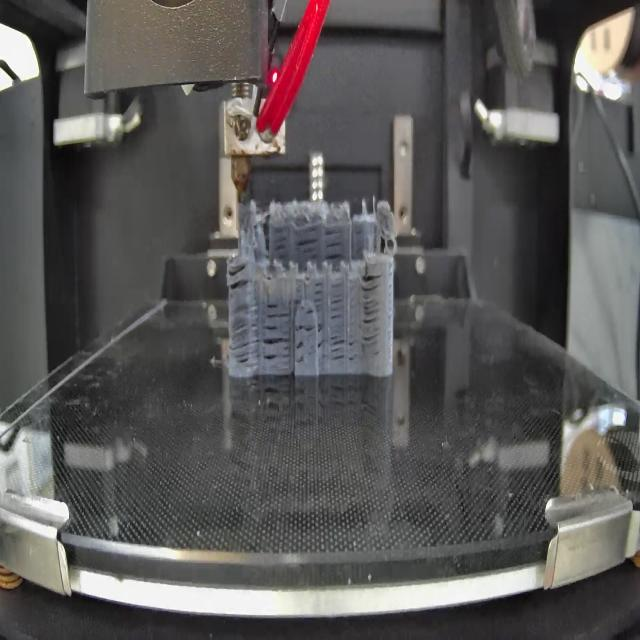cracks: (227, 301, 259, 367), (359, 271, 382, 345), (263, 324, 291, 371), (228, 257, 252, 291), (322, 228, 346, 260), (332, 332, 358, 360), (297, 231, 319, 258), (266, 299, 291, 320), (330, 284, 344, 320), (271, 228, 289, 256), (317, 321, 326, 355), (295, 340, 305, 367), (297, 321, 317, 334), (314, 279, 324, 304), (294, 280, 302, 308), (304, 304, 314, 318)
